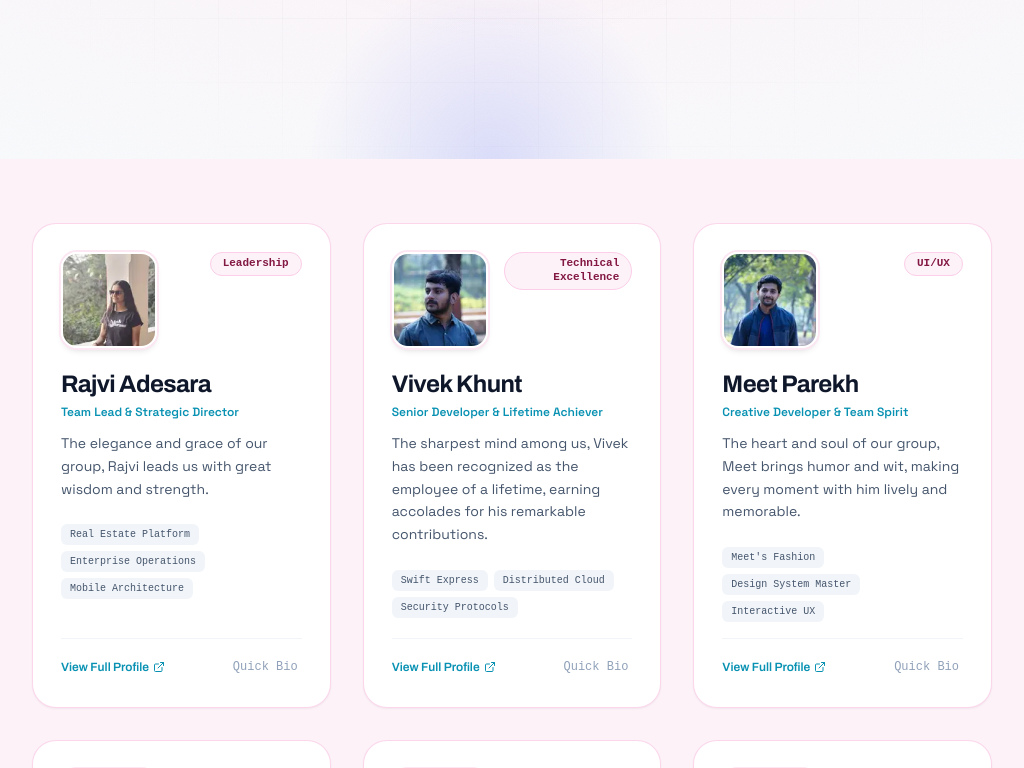
Scenario: Team Page › opens member detail modal on click
The image size is (1024, 768).
(page scrolled)
Click the heading "Rajvi Adesara" at (136, 384), box [61,371,211,397]
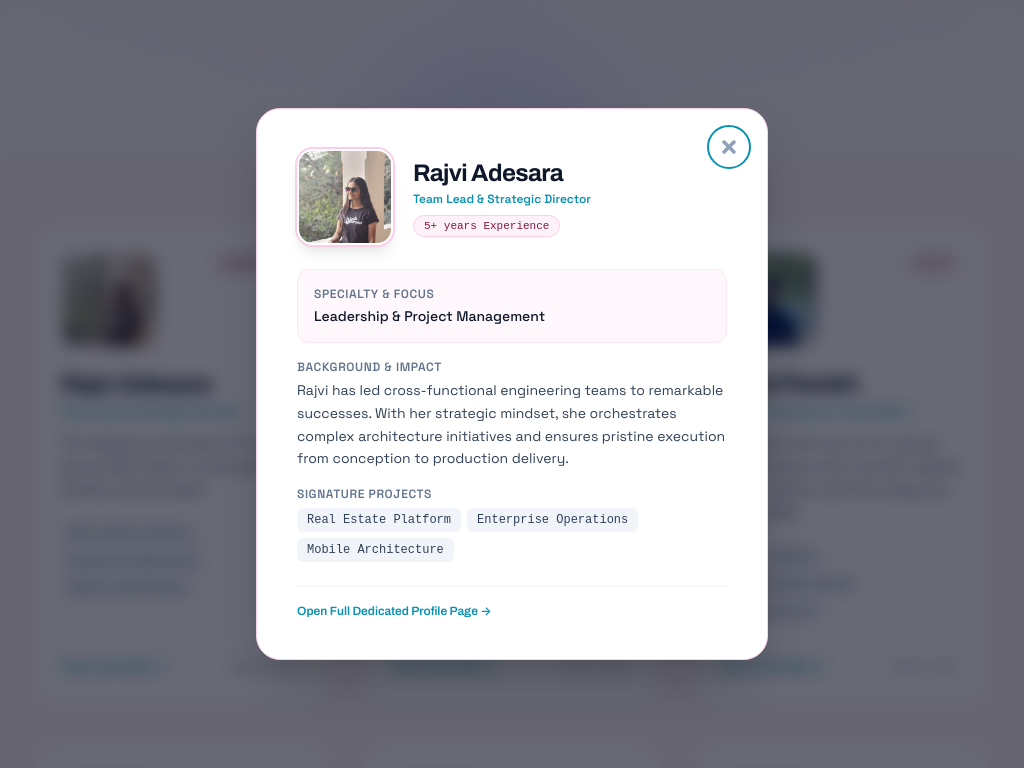
Check: the dialog is shown
